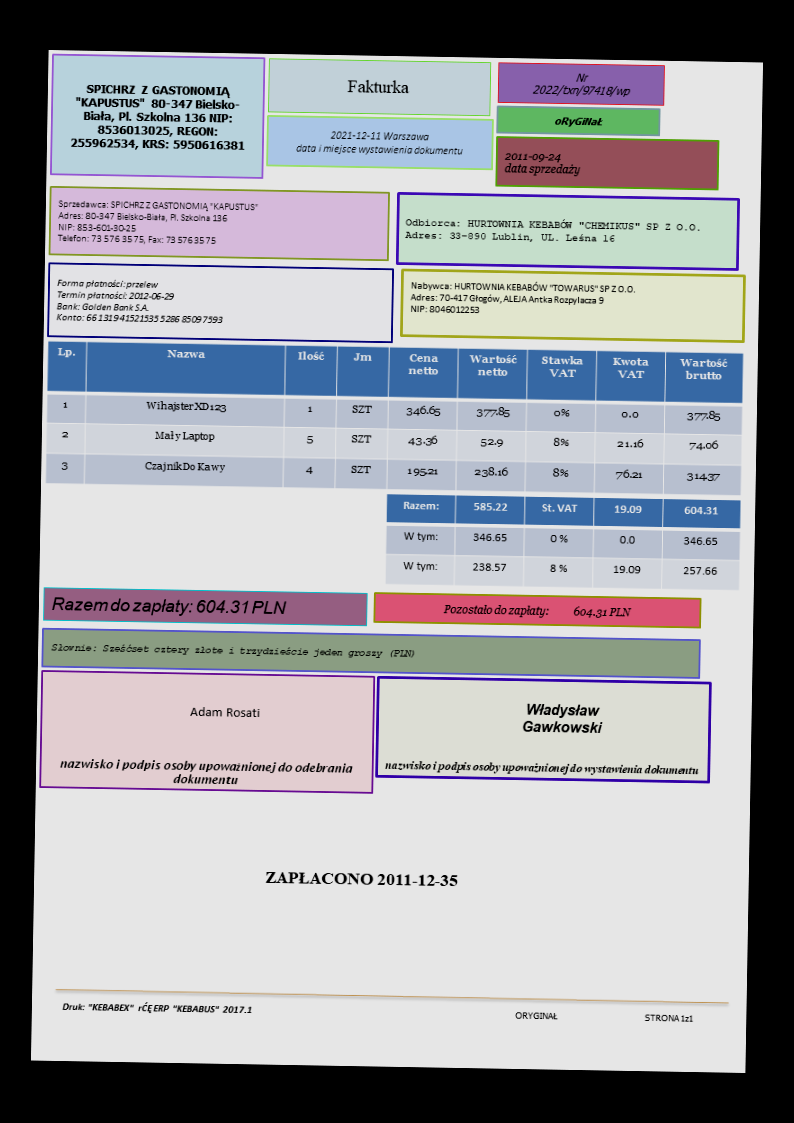Table: (45, 341, 744, 497), (385, 493, 741, 591)
TextBox: (68, 82, 248, 152), (56, 198, 260, 247), (403, 215, 703, 247), (56, 756, 354, 788), (408, 280, 638, 319), (55, 277, 225, 326), (49, 640, 418, 660), (382, 758, 700, 780), (48, 595, 291, 620), (292, 128, 465, 158), (263, 867, 462, 890), (440, 601, 633, 621), (528, 69, 632, 101), (60, 1000, 254, 1017), (521, 699, 604, 736), (502, 152, 582, 179), (345, 78, 411, 97), (186, 705, 261, 720), (551, 114, 605, 130), (642, 1013, 694, 1025), (512, 1010, 558, 1022)
